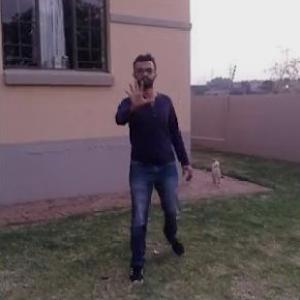follow_hand: (120, 72, 155, 115)
